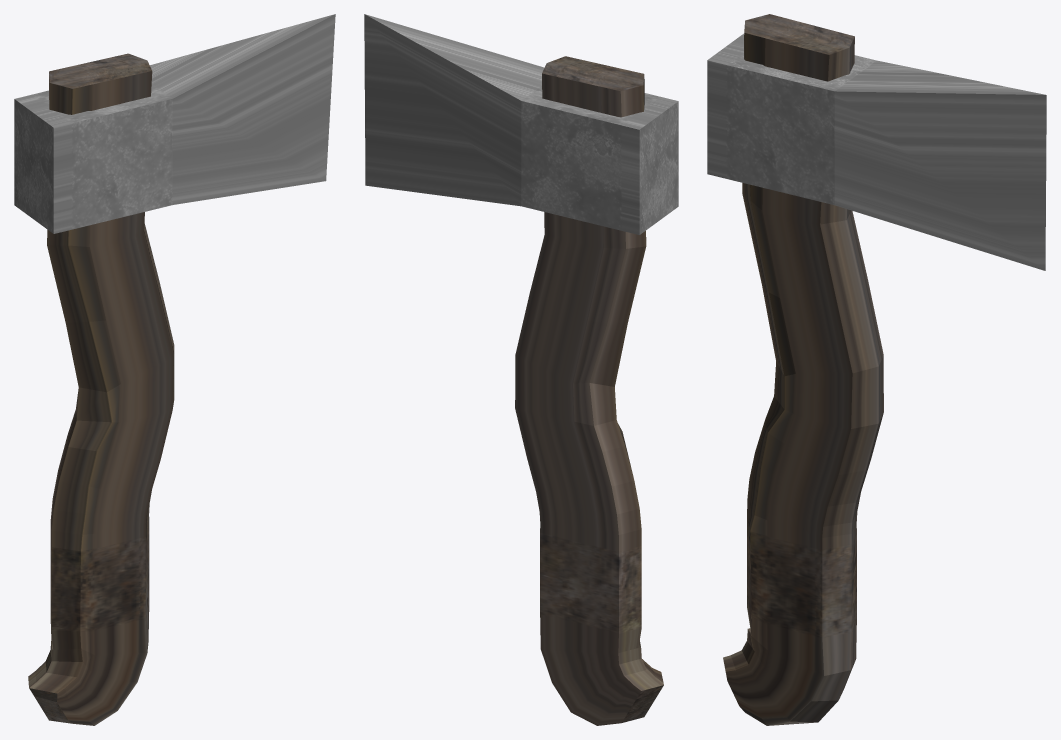
Rendered from DZ_23_Axe_OneHand.fbx.
3 renders of one model, left to right at view 1: azimuth 30°, elevation 25°; view 2: azimuth 150°, elevation 25°; view 3: azimuth 330°, elevation 25°, orthographic. The views are drawn at different scales.
Parts seen in each view (by area): view 1: Axe; view 2: Axe; view 3: Axe.
Part boxes in pixels (x1,y1,x2,y2): Axe: [14, 14, 335, 725]; Axe: [364, 14, 678, 725]; Axe: [707, 14, 1046, 725].
Bounding box in the file's own units: 230 × 466 × 51.48.
